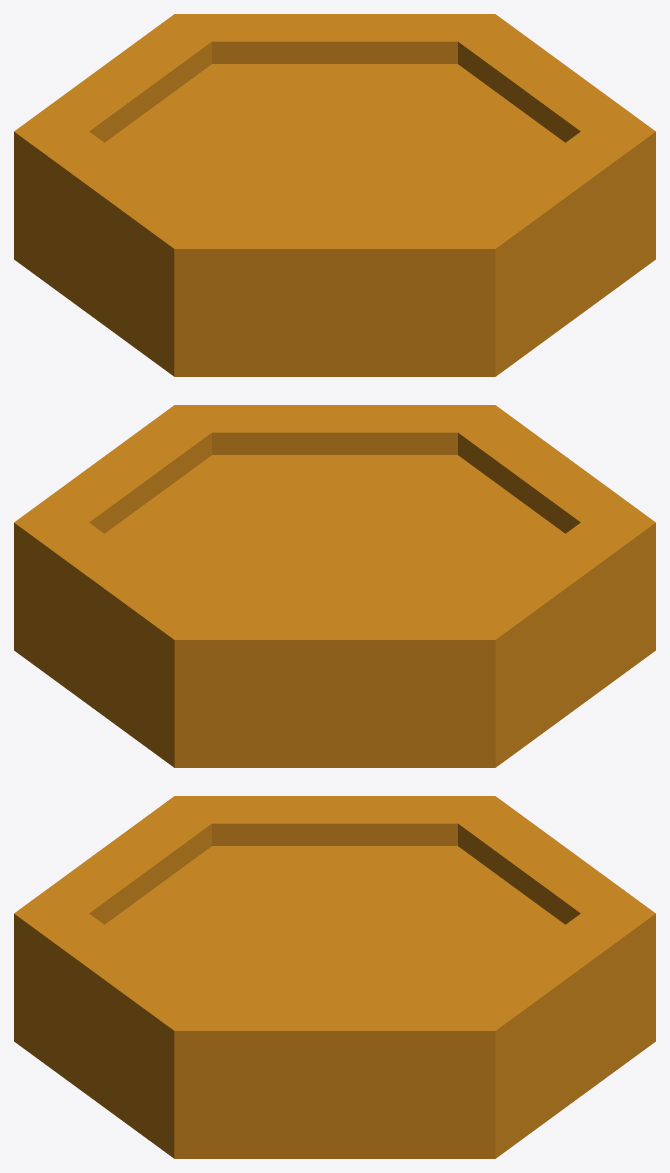
File: Coin_02.fbx
3 views of the same model, one above another, from view 1: azimuth 30°, elevation 25°; view 2: azimuth 150°, elevation 25°; view 3: azimuth 270°, elevation 25° (orthographic).
Visible parts, largest first — view 1: Coin_02_LOD0; view 2: Coin_02_LOD0; view 3: Coin_02_LOD0.
Part boxes in pixels (x1,y1,x2,y2): Coin_02_LOD0: (14,14,655,376); Coin_02_LOD0: (14,405,655,767); Coin_02_LOD0: (14,796,655,1158).
Size of what is drawn, in the model's own units: 0.0785 by 0.0199 by 0.0907.
